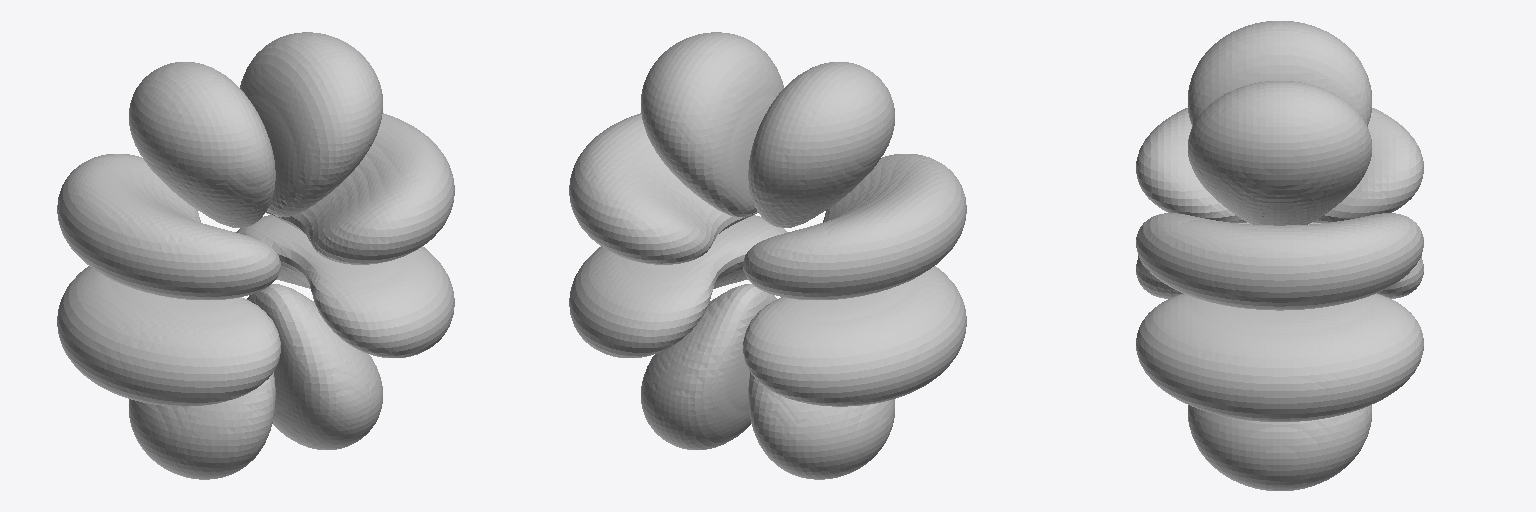
Rendered from orb_n=5_ l=4 _m=1.obj.
The picture shows the model from 3 angles: view 1: azimuth 30°, elevation 25°; view 2: azimuth 150°, elevation 25°; view 3: azimuth 270°, elevation 25°; orthographic projection.
Visible parts, largest first — view 1: orb_n=5__l=4__m=1; view 2: orb_n=5__l=4__m=1; view 3: orb_n=5__l=4__m=1.
Boxes of the visible parts, x1=… form: orb_n=5__l=4__m=1: x1=57, y1=32, x2=454, y2=479; orb_n=5__l=4__m=1: x1=569, y1=32, x2=966, y2=479; orb_n=5__l=4__m=1: x1=1136, y1=21, x2=1423, y2=490.
Size of the model in its own units: 88.08 by 95.17 by 62.16.